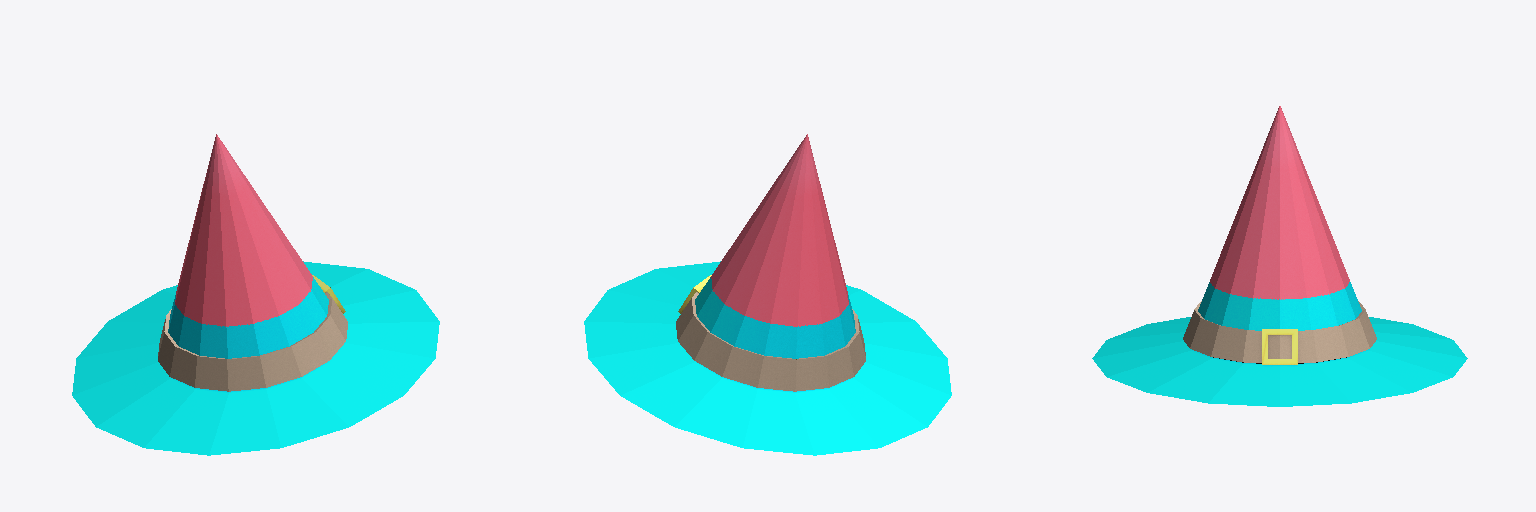
The picture shows the model from 3 angles: view 1: azimuth 30°, elevation 25°; view 2: azimuth 150°, elevation 25°; view 3: azimuth 270°, elevation 25°; orthographic projection.
Parts seen in each view (by area): view 1: Cylinder11.001; view 2: Cylinder11.001; view 3: Cylinder11.001.
Part boxes in pixels (x1,y1,x2,y2): Cylinder11.001: (72, 134, 439, 455); Cylinder11.001: (584, 134, 951, 455); Cylinder11.001: (1092, 106, 1467, 406).
Size of the model in its own units: 1.97 by 1.55 by 2.
Materials: 1 (1 with a texture image).